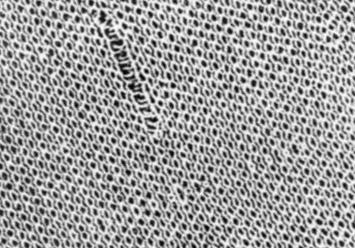slub: (90, 9, 170, 139)
